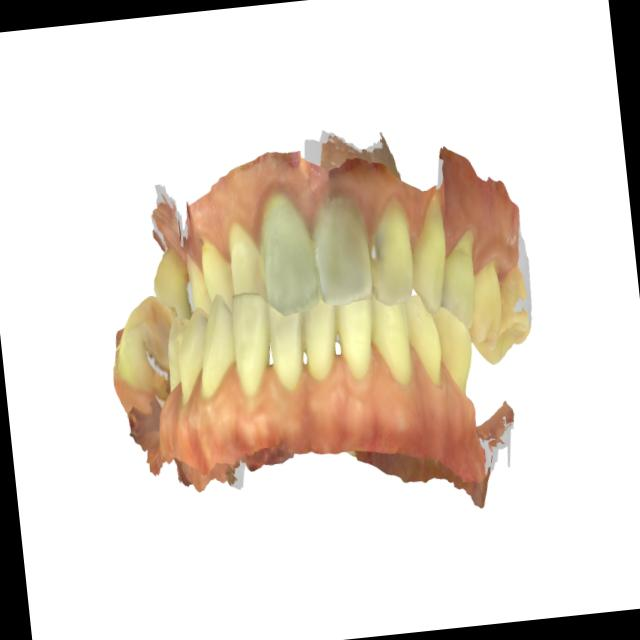tooth: (248, 176, 330, 326), (300, 179, 382, 316), (359, 180, 422, 316), (462, 260, 539, 369), (400, 186, 457, 322), (224, 288, 283, 410), (110, 290, 176, 397), (260, 284, 315, 404), (396, 279, 450, 400), (292, 280, 349, 394), (328, 280, 384, 395), (430, 222, 485, 338), (217, 203, 273, 316), (189, 292, 243, 408), (367, 290, 421, 400), (169, 300, 219, 413), (428, 296, 478, 403), (457, 248, 508, 352), (146, 234, 195, 331), (192, 223, 240, 313), (178, 236, 217, 326), (161, 316, 188, 396)
